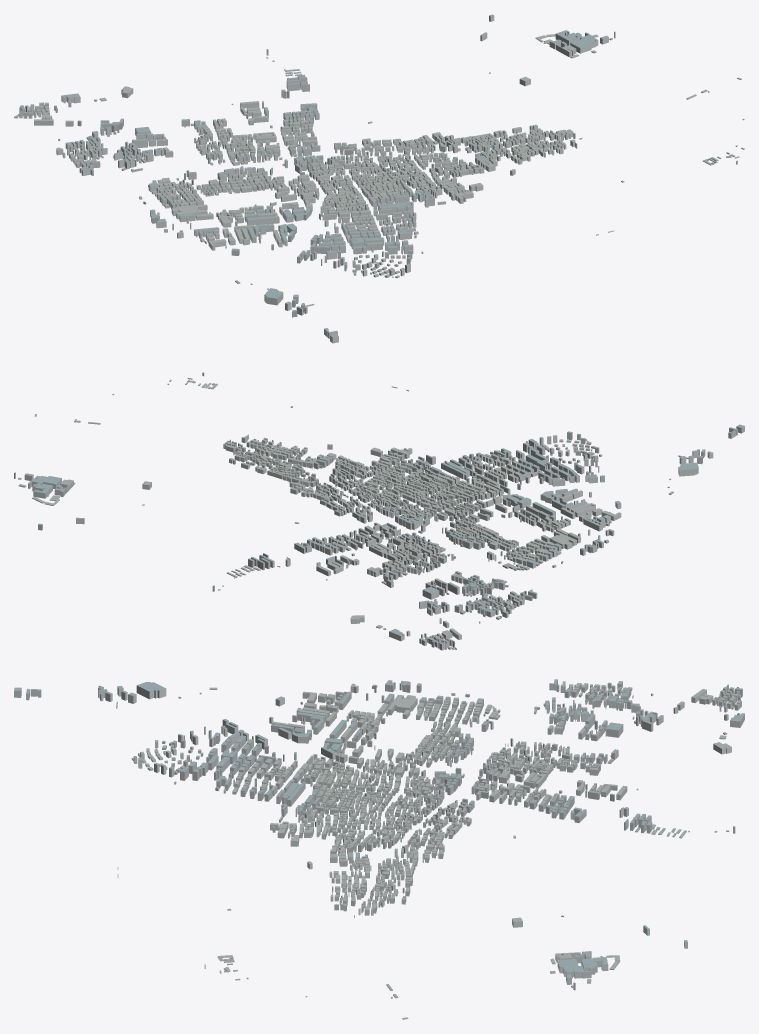
3 views of the same model, one above another, from view 1: azimuth 30°, elevation 25°; view 2: azimuth 150°, elevation 25°; view 3: azimuth 270°, elevation 25° (orthographic). The views are drawn at different scales.
Parts seen in each view (by area): view 1: 上海全域建筑分块 · mapped building neighborhood; view 2: 上海全域建筑分块 · mapped building neighborhood; view 3: 上海全域建筑分块 · mapped building neighborhood.
Boxes of the visible parts, left/top/right/bottom form: 上海全域建筑分块 · mapped building neighborhood: left=14, top=14, right=744, bottom=343; 上海全域建筑分块 · mapped building neighborhood: left=14, top=372, right=744, bottom=650; 上海全域建筑分块 · mapped building neighborhood: left=14, top=679, right=744, bottom=1019.
Size of the model in its own units: 2110 by 26.69 by 1949.
